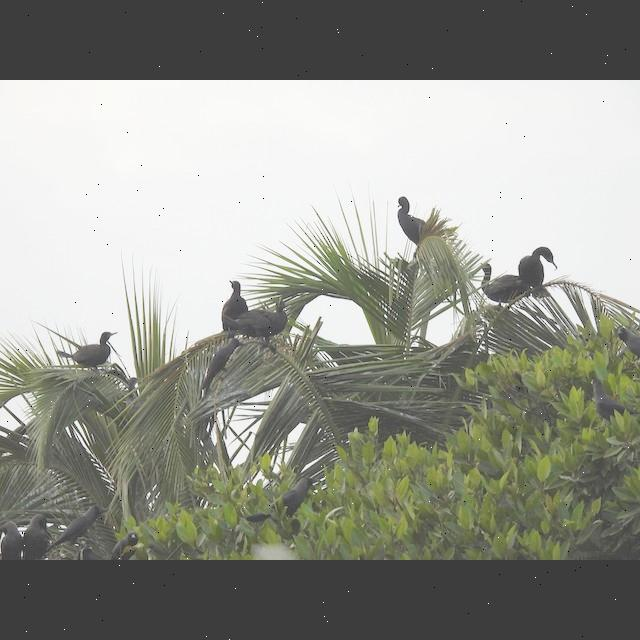cormorant: (52, 330, 120, 368), (516, 244, 564, 296), (392, 187, 428, 250), (216, 275, 250, 335)
